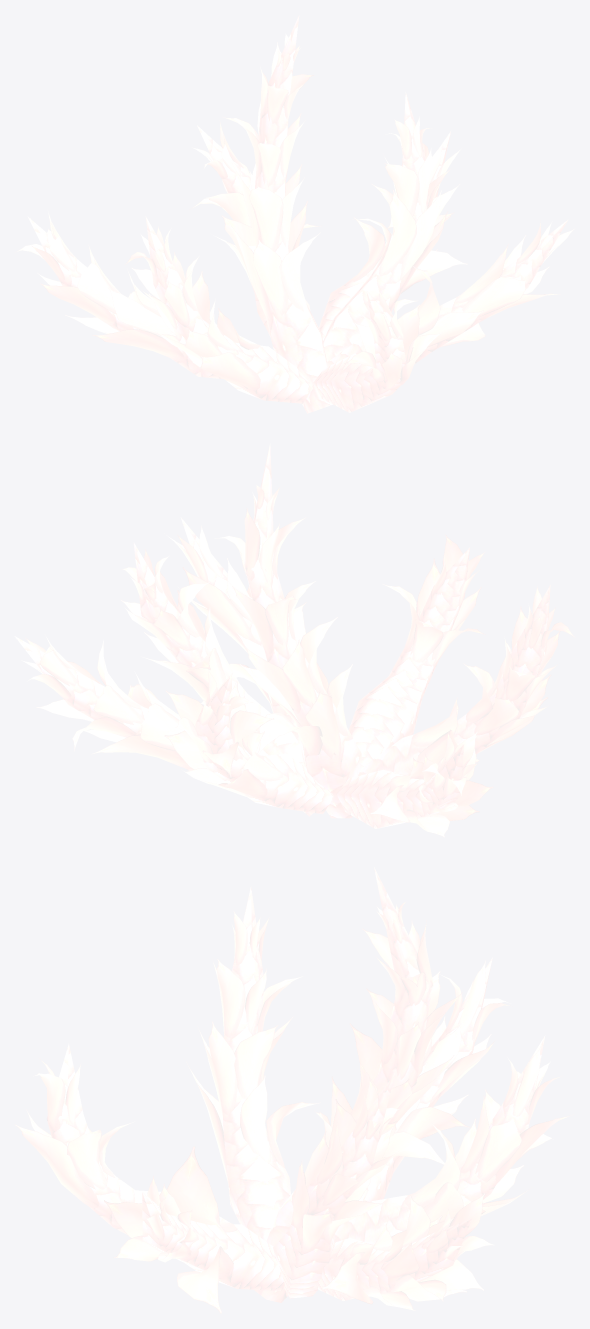
3 renders of one model, top to bottom at view 1: azimuth 30°, elevation 25°; view 2: azimuth 150°, elevation 25°; view 3: azimuth 270°, elevation 25°, orthographic. The views are drawn at different scales.
Parts seen in each view (by area): view 1: SM_SpikeyPlant_02_LOD0; view 2: SM_SpikeyPlant_02_LOD0; view 3: SM_SpikeyPlant_02_LOD0.
Part boxes in pixels (x1,y1,x2,y2): SM_SpikeyPlant_02_LOD0: (15, 15, 575, 413); SM_SpikeyPlant_02_LOD0: (14, 443, 575, 837); SM_SpikeyPlant_02_LOD0: (14, 867, 573, 1313).
Size of the model in its own units: 2.28 by 1.86 by 2.12.
Materials: 1 (1 with a texture image).
